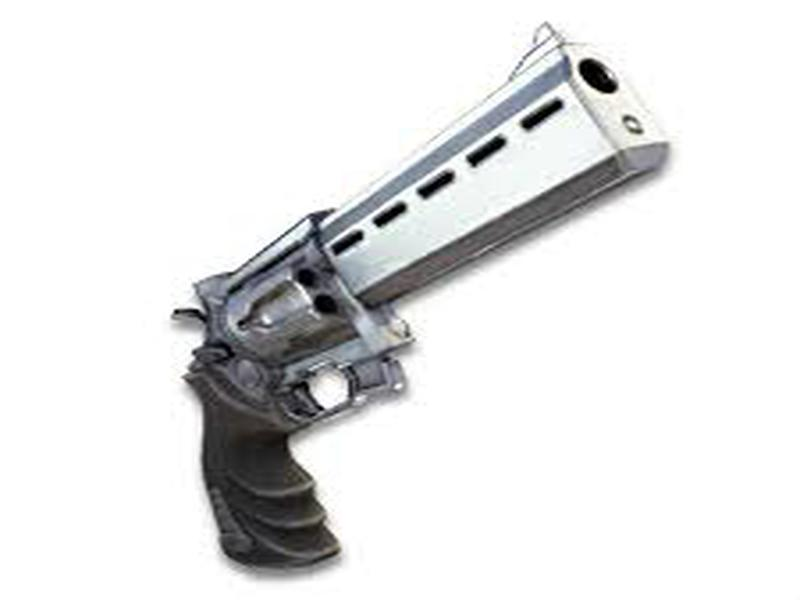gun: (174, 16, 670, 576)
